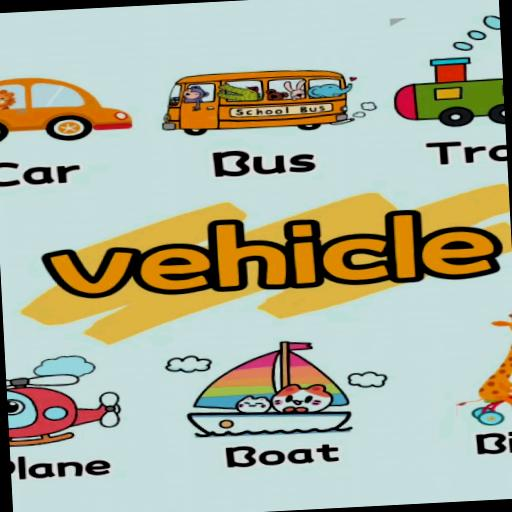bus: (164, 64, 356, 136)
hatchback: (0, 71, 134, 145)
truck: (396, 54, 505, 130)
